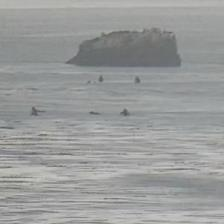surfer: (31, 107, 46, 116), (121, 108, 131, 116), (89, 110, 99, 116), (134, 76, 142, 82), (98, 75, 104, 82)
